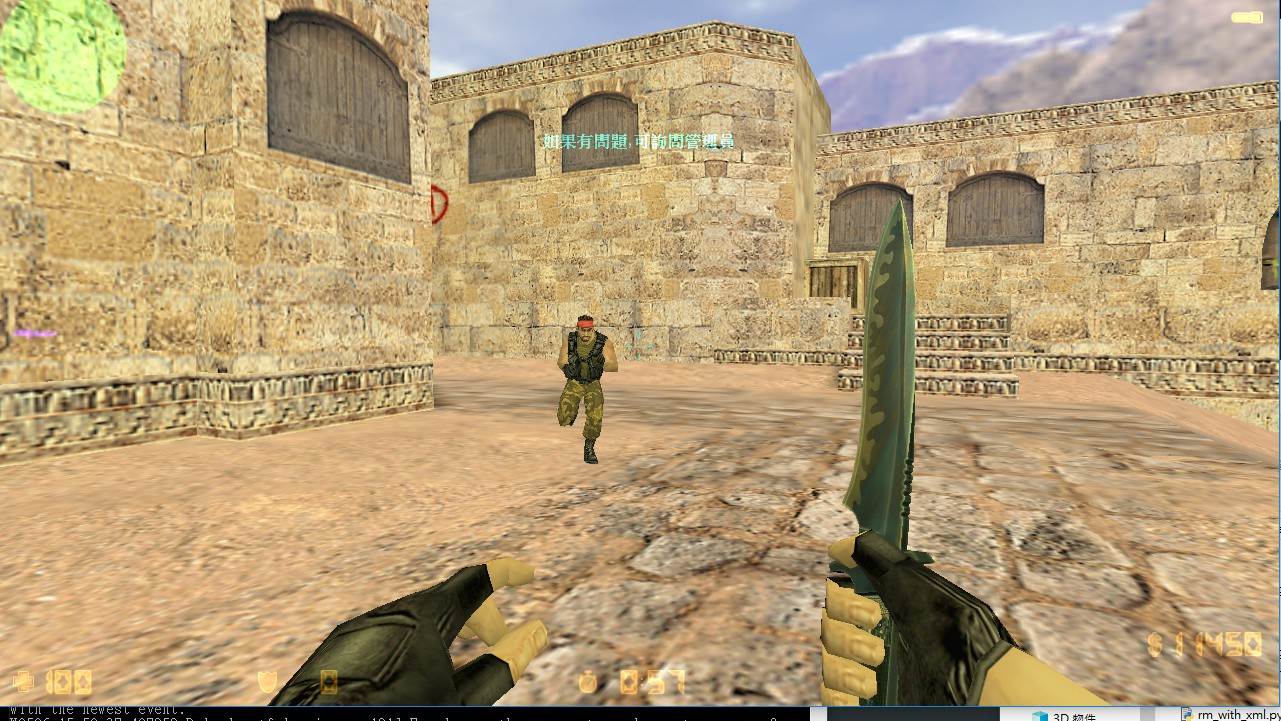person: (556, 313, 618, 468)
